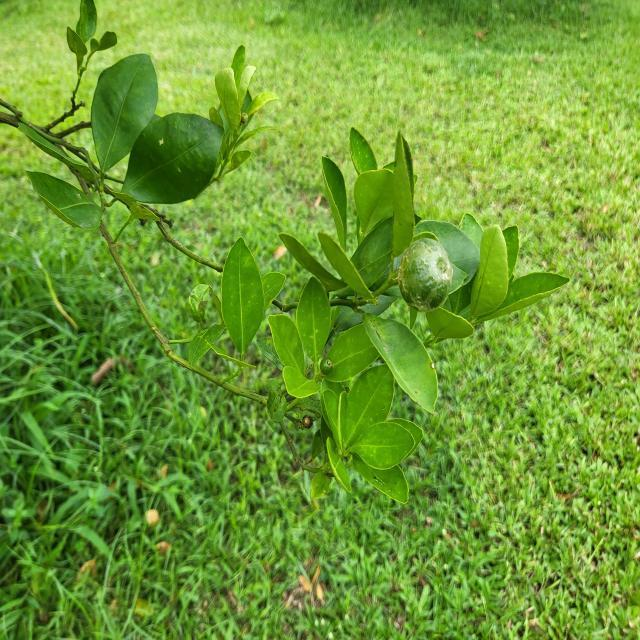thrips: (395, 228, 460, 310)
